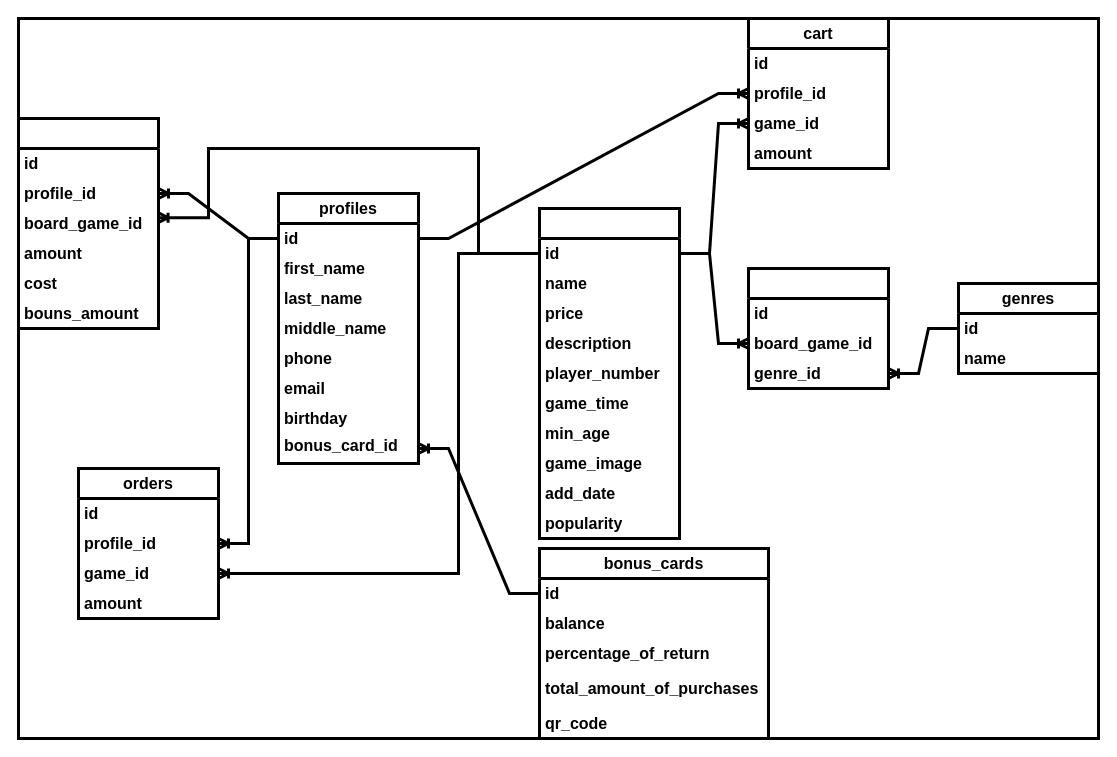
Image size: 1117x757. Some labels were removed from this diagram. Here are the shapes that lost their labels. From the top down, the box of each, then its label:
(16, 116, 160, 330): purchased
(746, 266, 890, 390): games_genres
(538, 206, 680, 540): board_games
